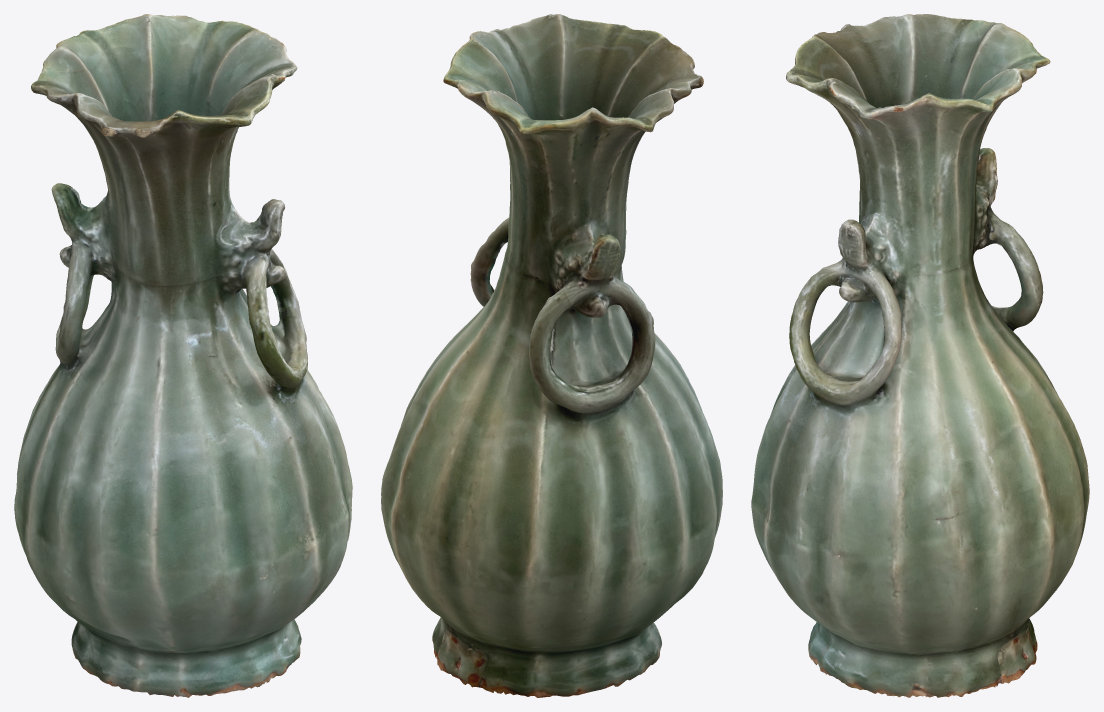
The model's file is comparison-2.glb.
3 views of the same model, side by side, from view 1: azimuth 30°, elevation 25°; view 2: azimuth 150°, elevation 25°; view 3: azimuth 270°, elevation 25° (orthographic).
Visible parts, largest first — view 1: Object_4; view 2: Object_4; view 3: Object_4.
Boxes of the visible parts, box(x1,y1,x2,y2) form: Object_4: box(14, 14, 352, 697); Object_4: box(381, 14, 722, 697); Object_4: box(751, 14, 1089, 697).
Size of the model in its own units: 0.1299 by 0.2568 by 0.1329.
1 material, 1 textured.
